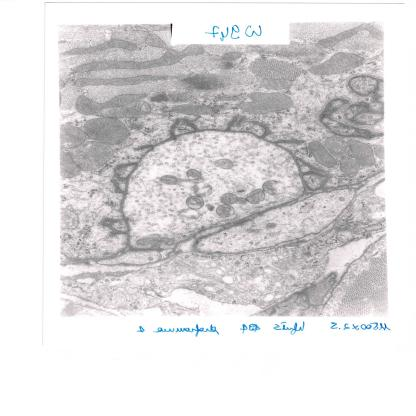mitochondria: (76, 93, 147, 115), (236, 91, 295, 114), (71, 140, 115, 170), (310, 51, 365, 75), (85, 117, 132, 144), (95, 99, 152, 119), (307, 140, 337, 168), (348, 140, 376, 168), (323, 136, 355, 158), (260, 78, 294, 90), (341, 157, 360, 178), (263, 180, 287, 194), (245, 188, 266, 204), (214, 205, 238, 218), (220, 191, 242, 205), (159, 174, 183, 186), (184, 197, 208, 209), (212, 159, 236, 170), (184, 168, 204, 181), (220, 51, 242, 62)
